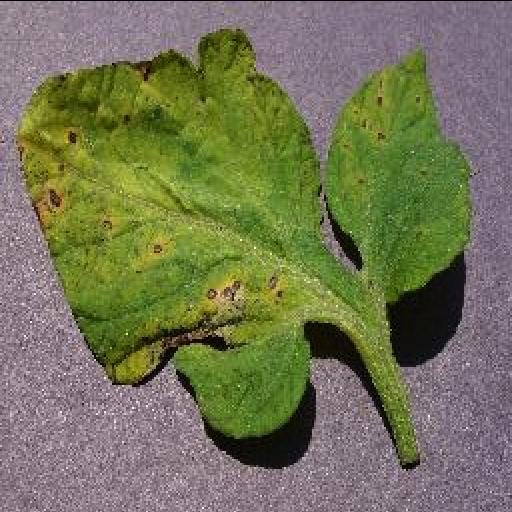disease_tomato: (14, 26, 322, 444), (326, 50, 476, 298)
